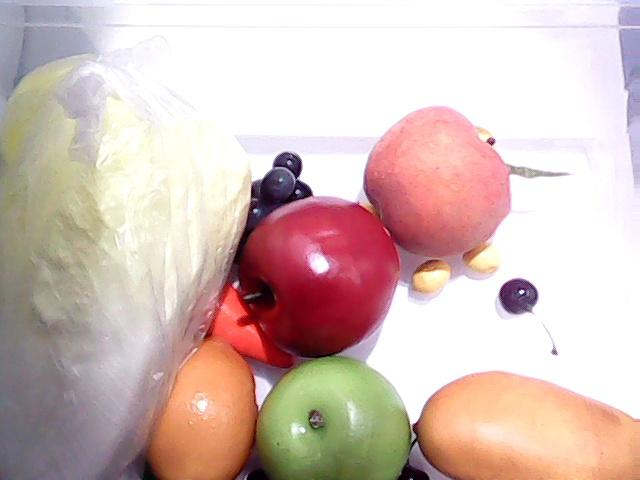apple: (230, 190, 402, 358), (256, 356, 414, 480)
carrot: (203, 276, 301, 370)
grape: (255, 132, 321, 188)
lemon: (140, 323, 278, 480)
mango: (416, 370, 640, 480)
napa cabbage: (1, 50, 220, 480)
peach: (362, 106, 512, 254)
